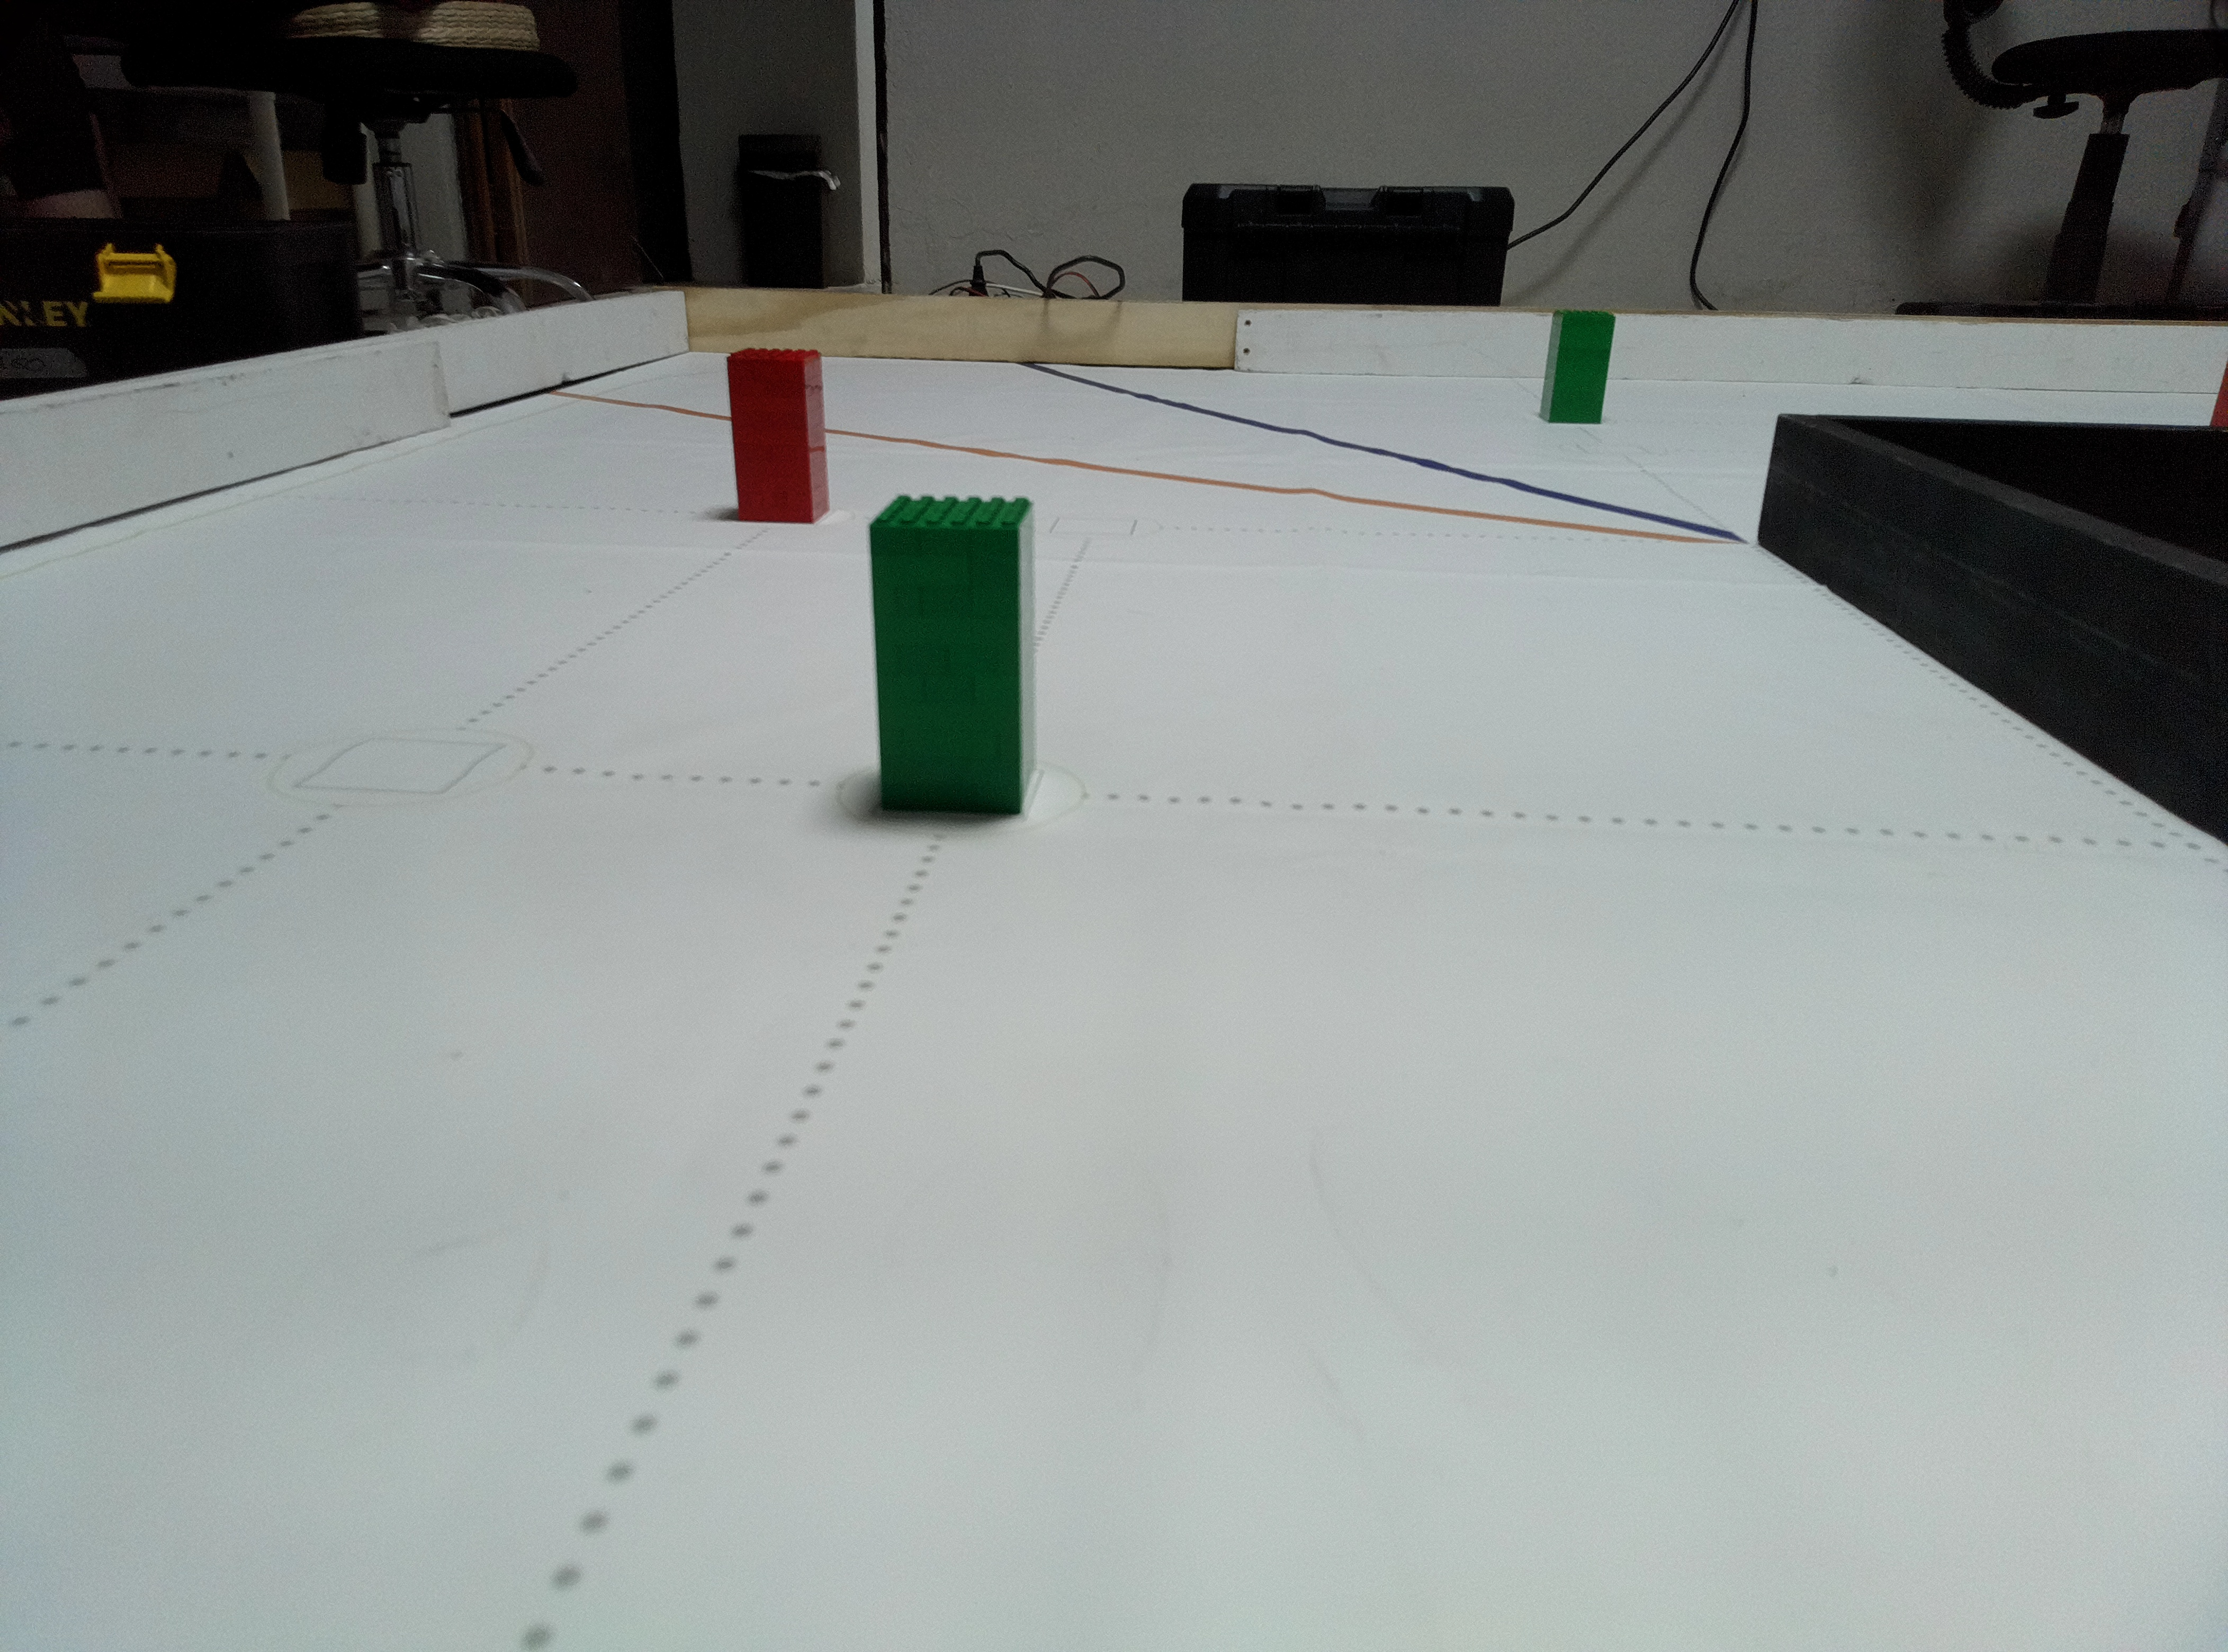greenbox: (866, 488, 1038, 823), (1539, 309, 1619, 425)
redbox: (727, 347, 833, 526)
